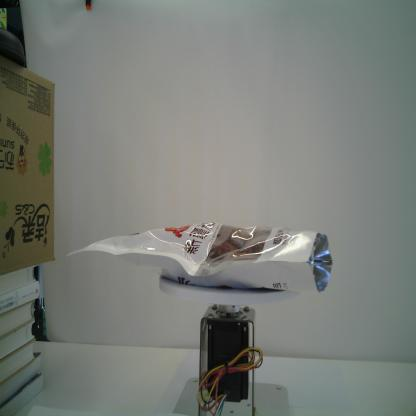Dried Food: (63, 218, 333, 296)
